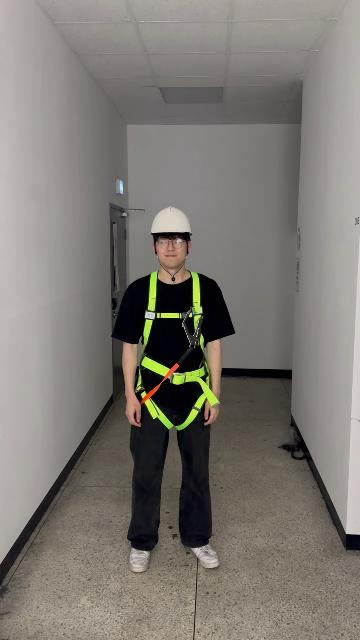helmet_worn: (149, 205, 194, 235)
shoe_not_worn: (187, 542, 220, 568), (129, 546, 150, 573)
vest_worn: (131, 272, 218, 430)
